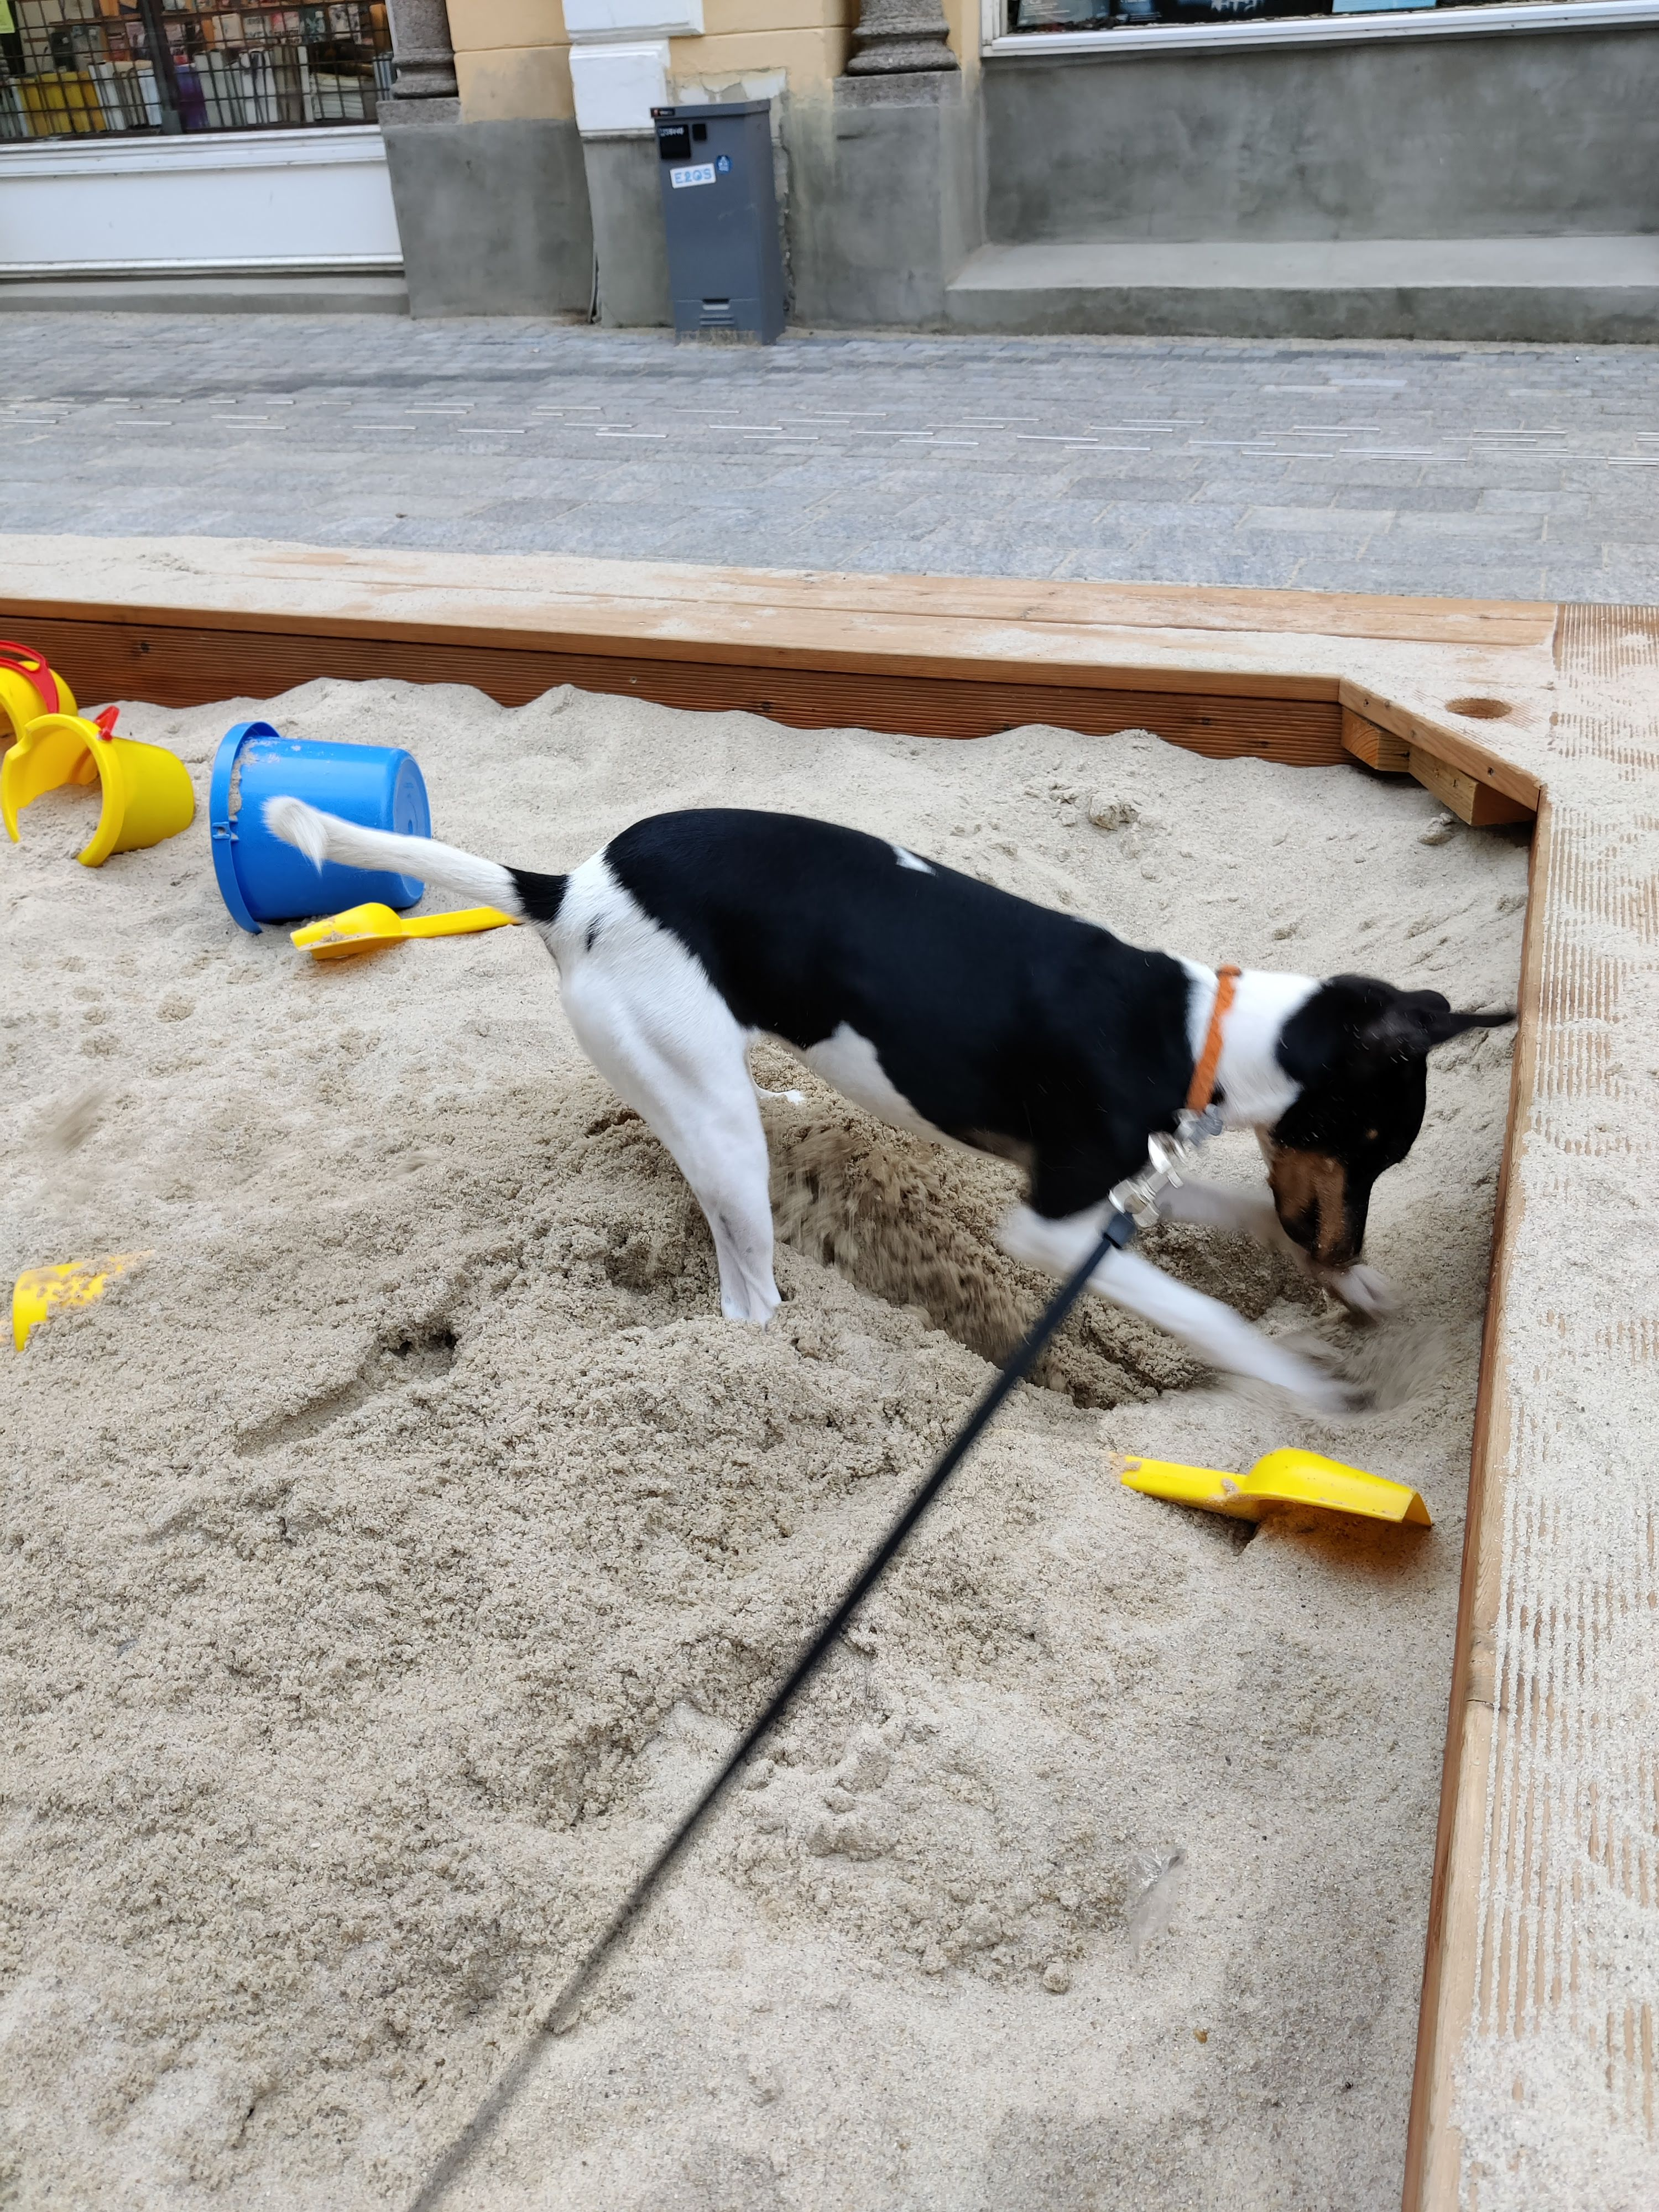Dog: (260, 789, 1527, 1421)
